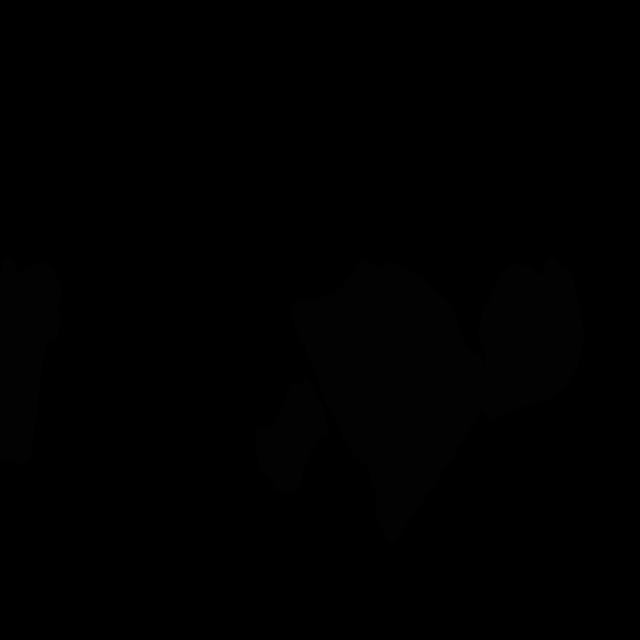cardboard: (290, 257, 494, 543), (477, 256, 584, 420), (0, 256, 62, 465), (254, 380, 328, 495)
